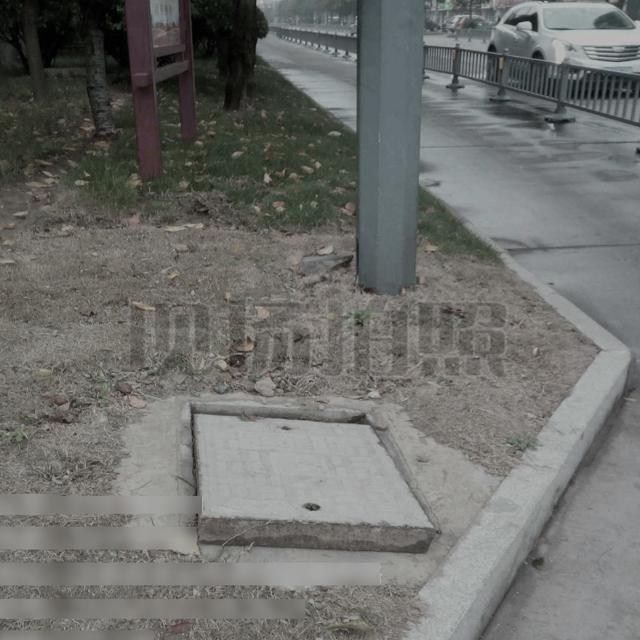uncovered: (182, 398, 438, 556)
